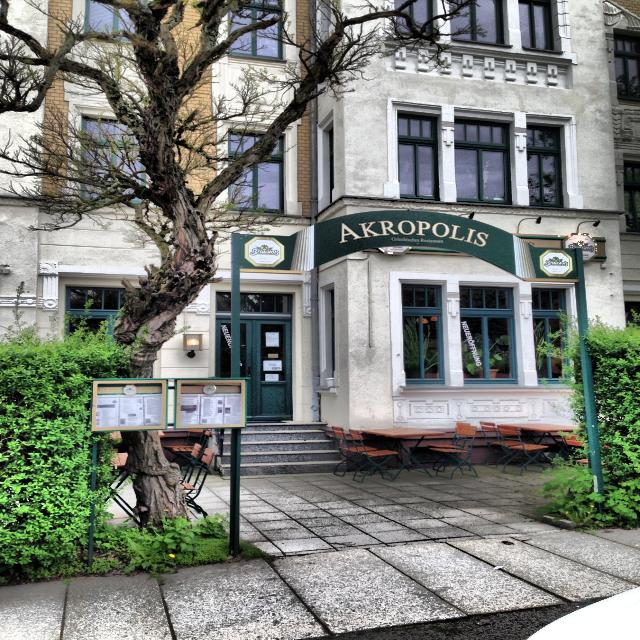escada: (217, 428, 345, 475)
